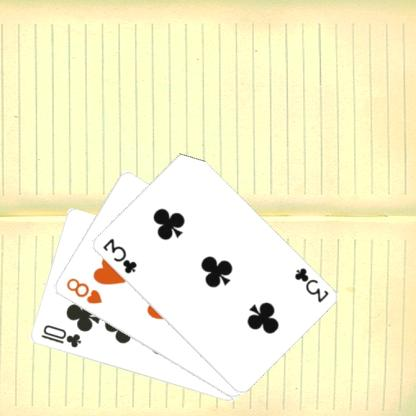10C: (38, 322, 82, 350)
3C: (99, 235, 138, 275), (291, 265, 330, 304)
8H: (63, 275, 103, 306)
